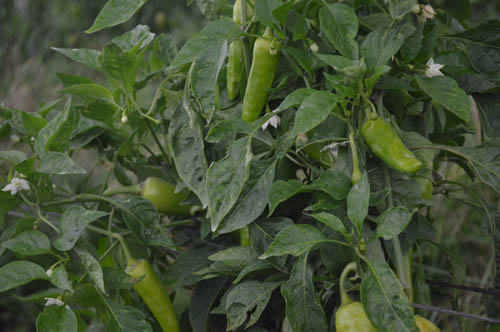ChiliPepper: (129, 261, 177, 331), (242, 38, 278, 123), (365, 118, 419, 173), (141, 177, 193, 212), (331, 304, 371, 331), (224, 41, 242, 100)
